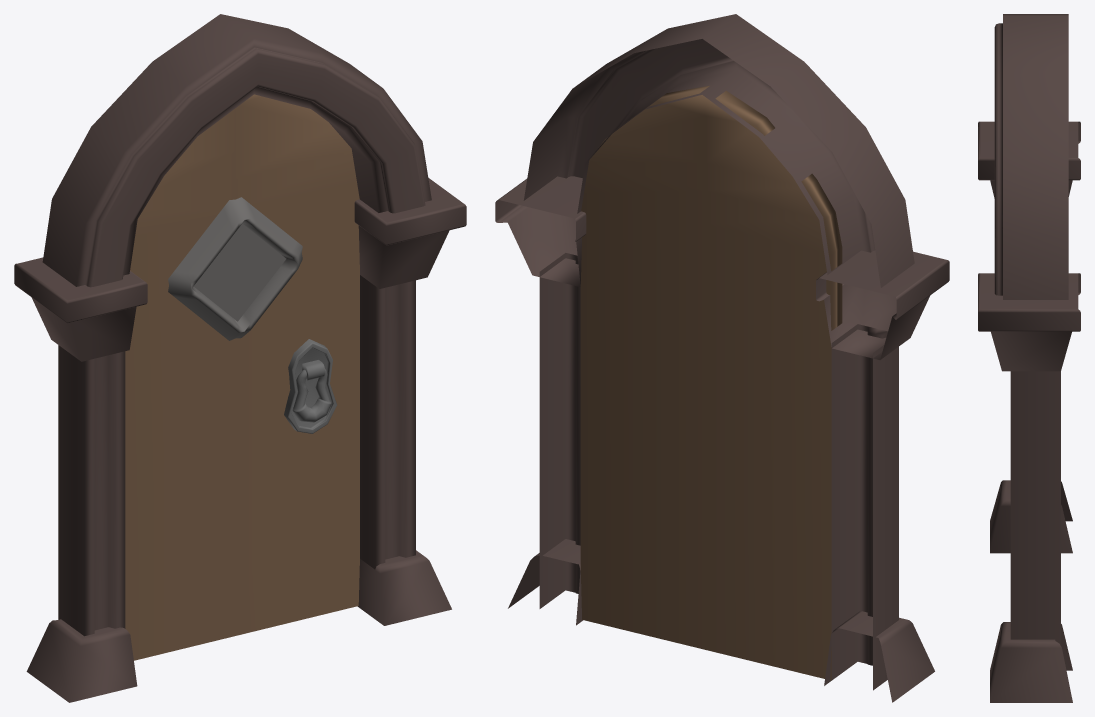
File: Puerta.fbx
The picture shows the model from 3 angles, left to right: view 1: azimuth 30°, elevation 25°; view 2: azimuth 150°, elevation 25°; view 3: azimuth 270°, elevation 25°; orthographic projection. The views are drawn at different scales.
Parts seen in each view (by area): view 1: pTorus3; view 2: pTorus3; view 3: pTorus3.
Boxes of the visible parts, bbox=[...] form: pTorus3: bbox=[14, 14, 466, 702]; pTorus3: bbox=[495, 14, 949, 702]; pTorus3: bbox=[978, 14, 1080, 702].
Size of the model in its own units: 2.61 by 3.83 by 0.5993.
